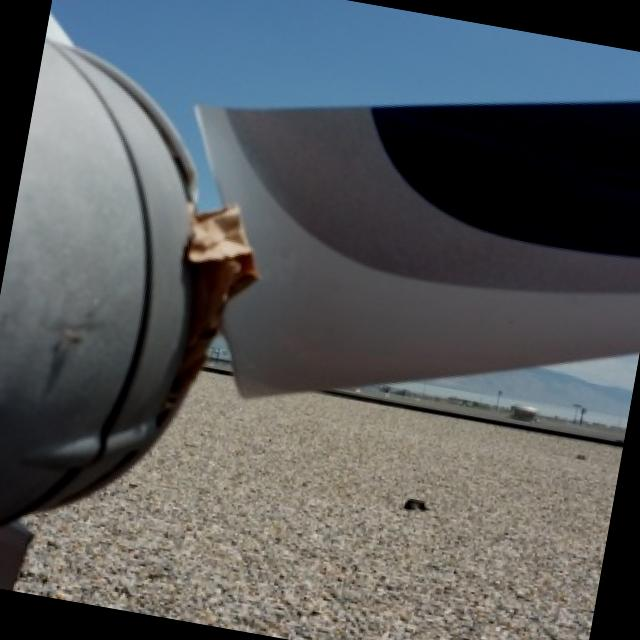healthy: (19, 371, 622, 640)
